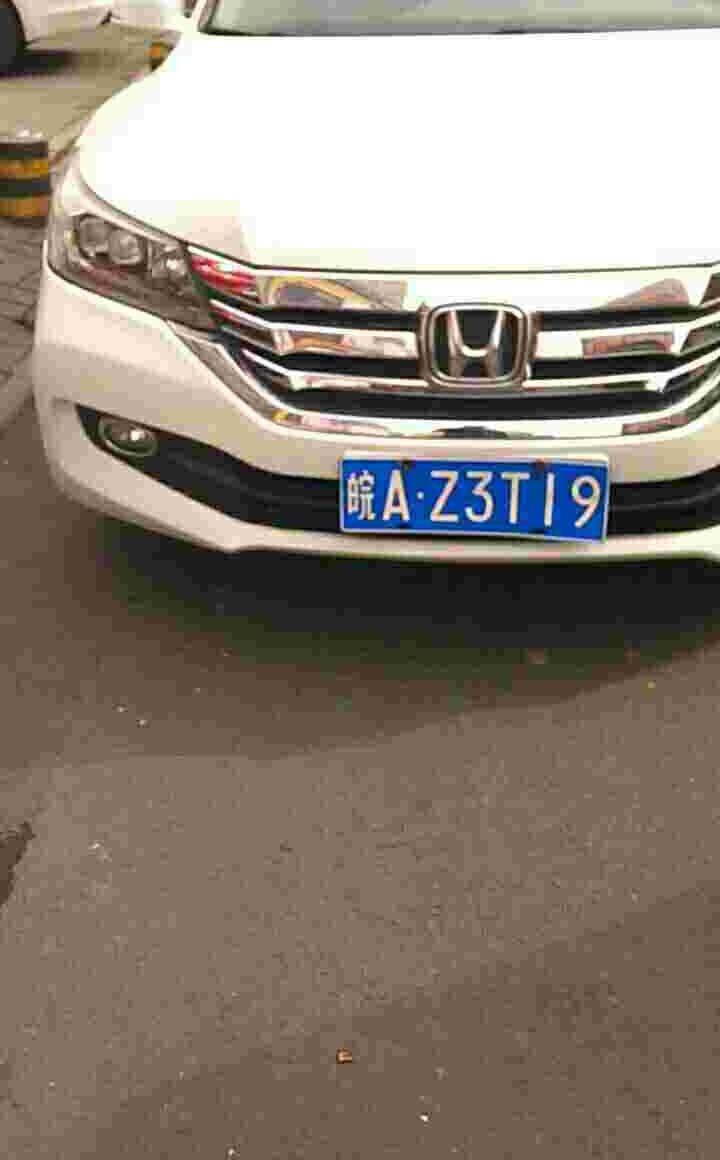plate: (339, 451, 615, 544)
